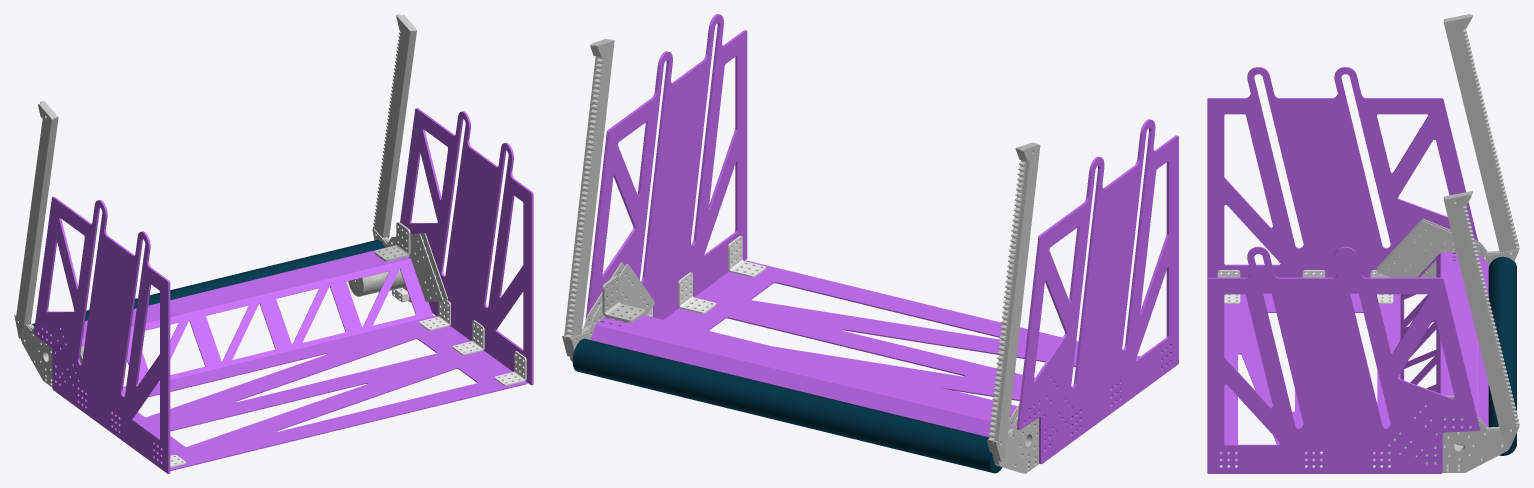
3 renders of one model, left to right at view 1: azimuth 30°, elevation 25°; view 2: azimuth 150°, elevation 25°; view 3: azimuth 270°, elevation 25°, orthographic. The views are drawn at different scales.
Visible parts, largest first — view 1: empty_25, empty_2, empty_12, empty_8, empty_7, empty_14, empty_10, empty_6, empty_5, empty_9, empty_26, empty_17 (+3 smaller); view 2: empty_25, empty_2, empty_12, empty_14, empty_8, empty_7, empty_6, empty_5, empty_10, empty_26, empty_9, empty_20 (+1 smaller); view 3: empty_12, empty_2, empty_25, empty_6, empty_9, empty_14, empty_4, empty_13, empty_8, empty_5, empty_22.
Boxes of the visible parts, <box> form: empty_25: <box>81,246,527,470</box>; empty_2: <box>34,196,170,473</box>; empty_12: <box>400,108,533,385</box>; empty_8: <box>373,14,414,243</box>; empty_7: <box>14,103,54,338</box>; empty_14: <box>32,240,384,326</box>; empty_10: <box>372,228,443,302</box>; empty_6: <box>24,101,58,384</box>; empty_5: <box>21,325,52,386</box>; empty_9: <box>386,15,416,238</box>; empty_26: <box>374,222,410,261</box>; empty_17: <box>348,271,388,296</box>; empty_25: <box>590,260,1139,437</box>; empty_2: <box>1017,119,1178,464</box>; empty_12: <box>585,14,747,321</box>; empty_14: <box>572,338,1002,473</box>; empty_8: <box>565,39,614,361</box>; empty_7: <box>993,144,1040,461</box>; empty_6: <box>988,142,1036,472</box>; empty_5: <box>993,415,1038,473</box>; empty_10: <box>570,264,654,351</box>; empty_26: <box>602,275,645,322</box>; empty_9: <box>562,39,608,356</box>; empty_20: <box>678,272,716,313</box>; empty_12: <box>1207,246,1479,473</box>; empty_2: <box>1207,67,1477,293</box>; empty_25: <box>1220,252,1488,459</box>; empty_6: <box>1443,15,1519,258</box>; empty_9: <box>1444,193,1519,446</box>; empty_14: <box>1488,256,1516,455</box>; empty_4: <box>1376,221,1518,277</box>; empty_13: <box>1388,406,1517,472</box>; empty_8: <box>1443,191,1519,470</box>; empty_5: <box>1376,218,1499,277</box>; empty_22: <box>1217,270,1240,303</box>.
Bounding box in the file's own units: 0.7545 × 0.5448 × 0.5512.
